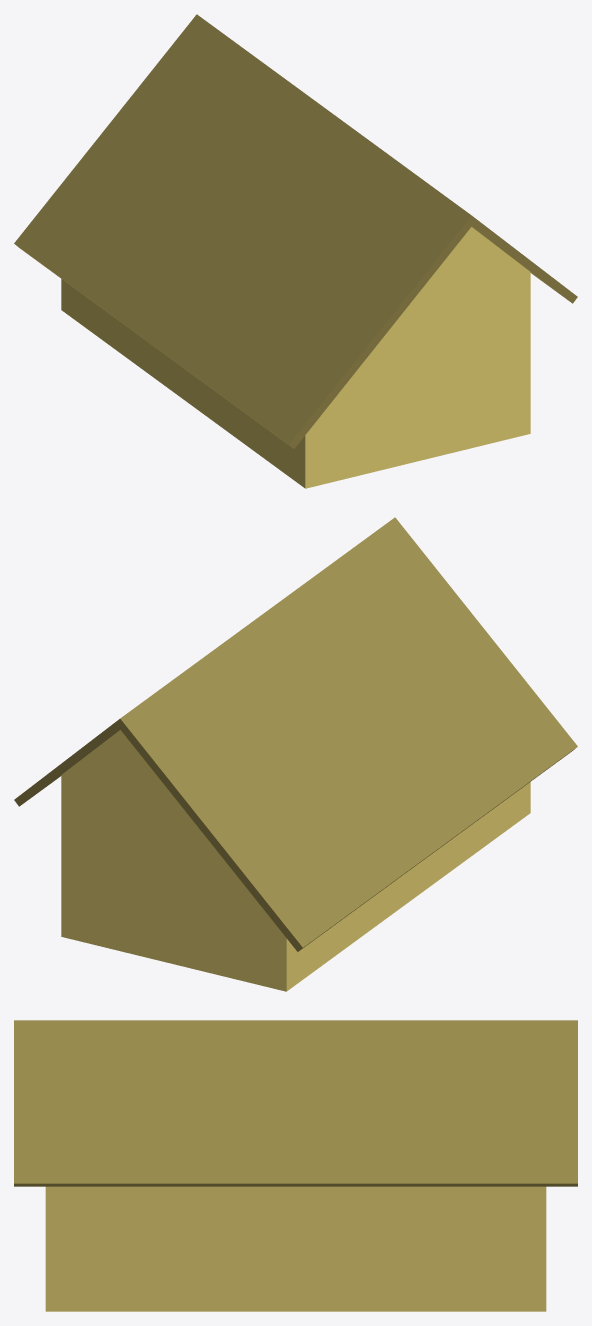
The model's file is result.glb.
3 views of the same model, one above another, from view 1: azimuth 30°, elevation 25°; view 2: azimuth 150°, elevation 25°; view 3: azimuth 270°, elevation 25° (orthographic). The views are drawn at different scales.
Parts seen in each view (by area): view 1: c5931360-05b1-4382-ac5a-c4b5160f3a0f__undefined (×2), c2a38239-da9d-4124-bef5-f6afab038f2e__undefined; view 2: c5931360-05b1-4382-ac5a-c4b5160f3a0f__undefined (×2), c2a38239-da9d-4124-bef5-f6afab038f2e__undefined; view 3: c5931360-05b1-4382-ac5a-c4b5160f3a0f__undefined, c2a38239-da9d-4124-bef5-f6afab038f2e__undefined.
Part boxes in pixels (bbox=[...]): c5931360-05b1-4382-ac5a-c4b5160f3a0f__undefined (×2): bbox=[14, 14, 577, 448]; c2a38239-da9d-4124-bef5-f6afab038f2e__undefined: bbox=[61, 227, 530, 488]; c5931360-05b1-4382-ac5a-c4b5160f3a0f__undefined (×2): bbox=[14, 517, 577, 951]; c2a38239-da9d-4124-bef5-f6afab038f2e__undefined: bbox=[61, 730, 530, 991]; c5931360-05b1-4382-ac5a-c4b5160f3a0f__undefined: bbox=[14, 1020, 577, 1186]; c2a38239-da9d-4124-bef5-f6afab038f2e__undefined: bbox=[45, 1186, 546, 1311].
Bounding box in the file's own units: 966 × 791 × 1592.
